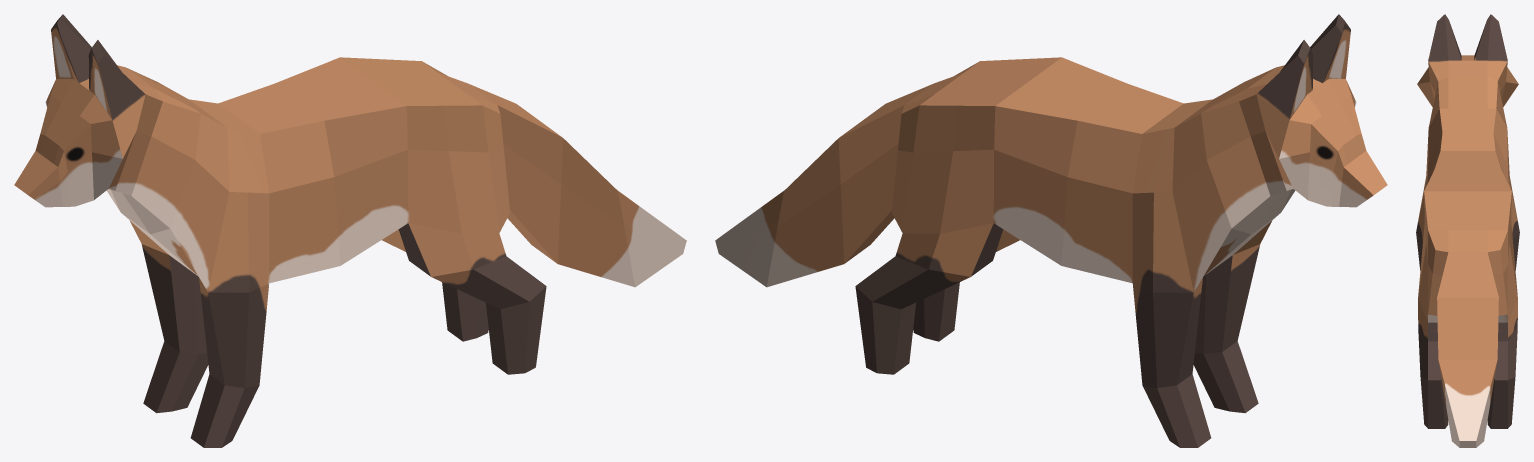
3 views of the same model, side by side, from view 1: azimuth 30°, elevation 25°; view 2: azimuth 150°, elevation 25°; view 3: azimuth 270°, elevation 25° (orthographic). The views are drawn at different scales.
Visible parts, largest first — view 1: Fox1; view 2: Fox1; view 3: Fox1.
Part boxes in pixels (bbox=[...]): Fox1: bbox=[14, 14, 686, 447]; Fox1: bbox=[715, 14, 1387, 447]; Fox1: bbox=[1416, 14, 1519, 447].
Size of the model in its own units: 172 by 106 by 35.69.
